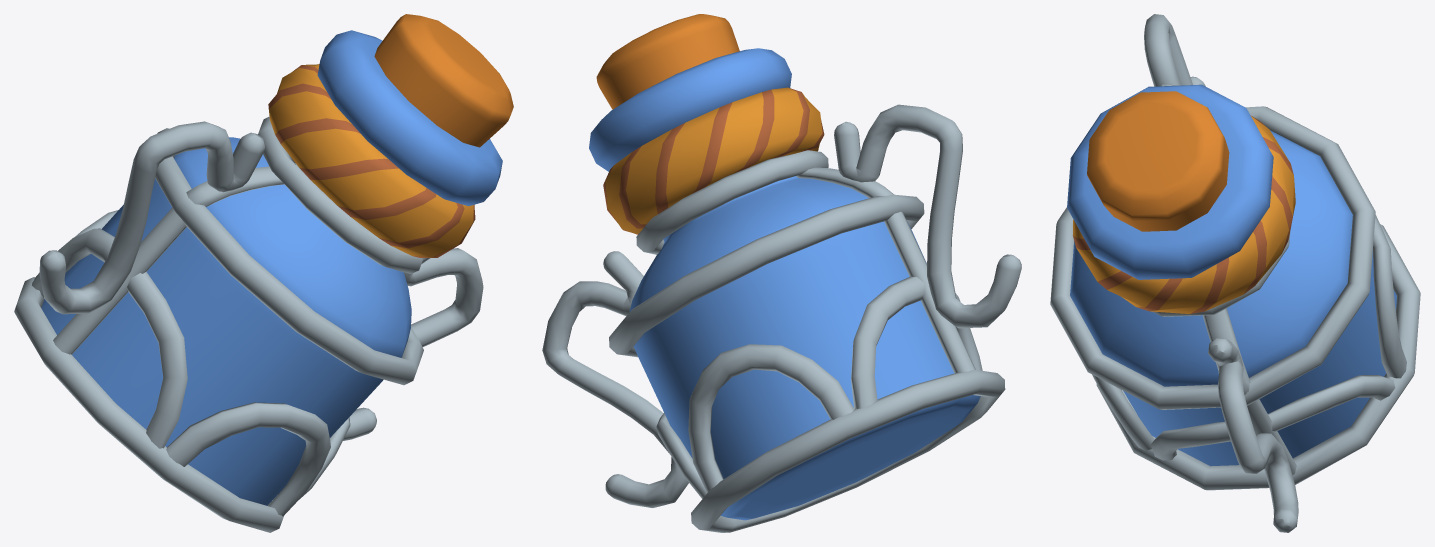
3 views of the same model, side by side, from view 1: azimuth 30°, elevation 25°; view 2: azimuth 150°, elevation 25°; view 3: azimuth 270°, elevation 25° (orthographic). The views are drawn at different scales.
Parts seen in each view (by area): view 1: model_1.131; view 2: model_1.131; view 3: model_1.131.
Part boxes in pixels (x1=…): model_1.131: x1=14, y1=14, x2=513, y2=532; model_1.131: x1=542, y1=14, x2=1021, y2=532; model_1.131: x1=1050, y1=14, x2=1420, y2=532.
Bounding box in the file's own units: 4.52 × 4.4 × 3.29.
